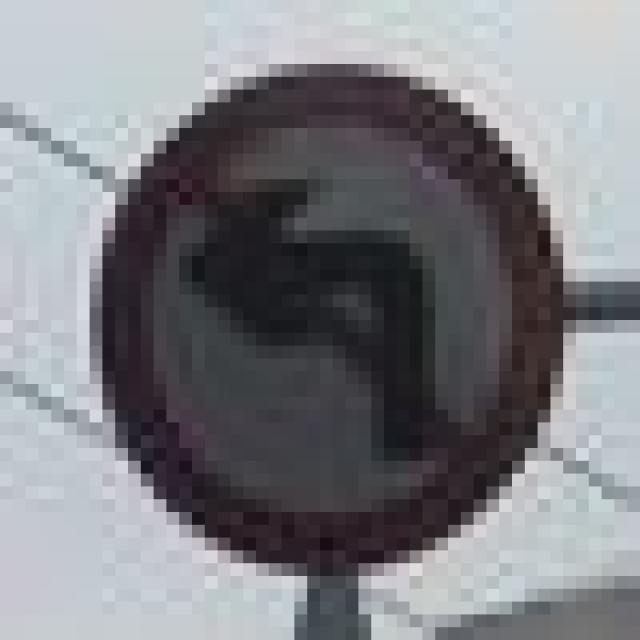LEFT_TURN_PROHIBITED: (77, 51, 550, 563)
